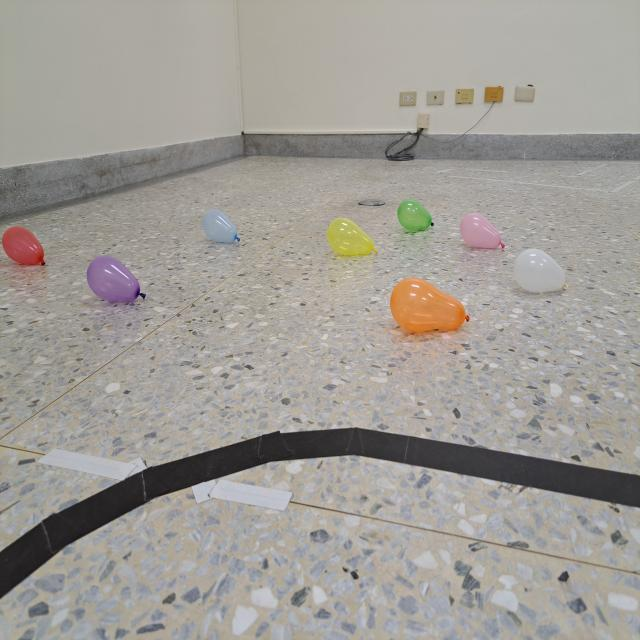other: (389, 275, 470, 333), (85, 254, 147, 305), (512, 245, 568, 292), (328, 216, 378, 256), (460, 211, 506, 250), (201, 207, 241, 247), (395, 199, 436, 231)
red: (0, 225, 48, 267)
